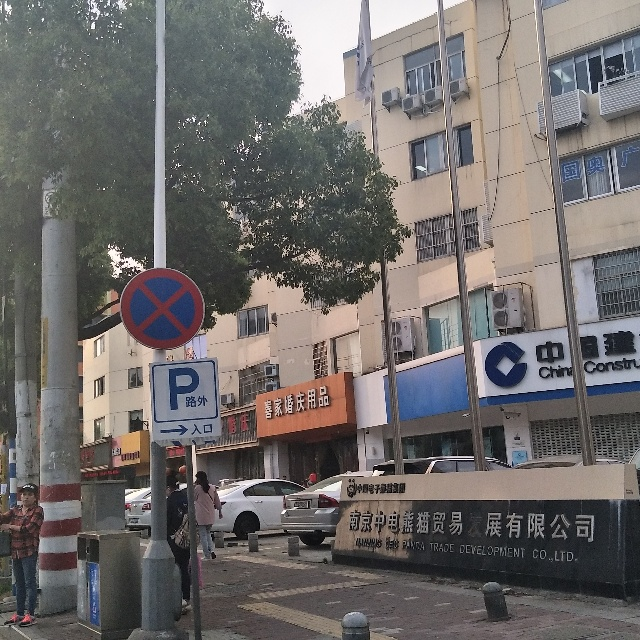stop: (120, 267, 205, 351)
